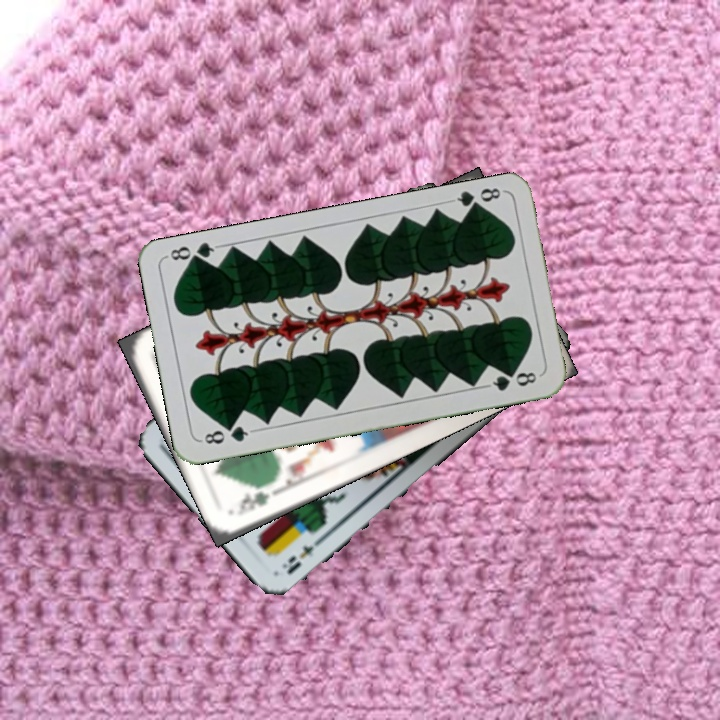EK: (278, 533, 327, 577)
G8: (447, 183, 506, 215), (197, 421, 256, 447)
GK: (233, 485, 282, 518)
